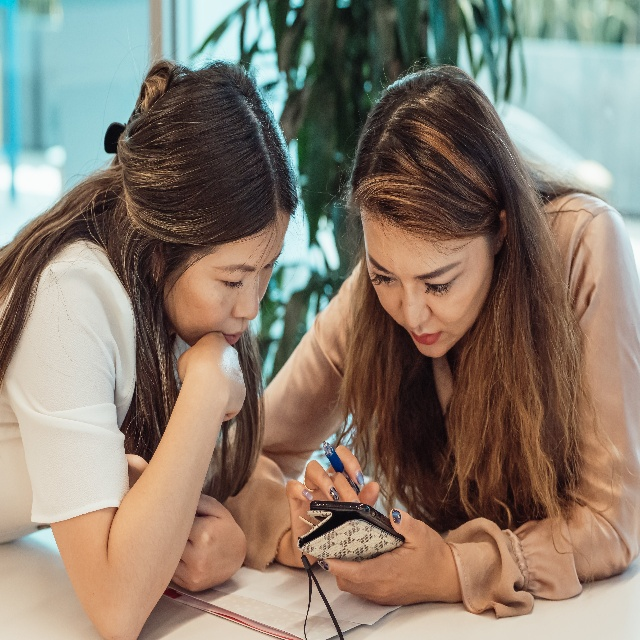Sin_guantes: (317, 508, 448, 606), (286, 443, 381, 568), (176, 330, 246, 422)
